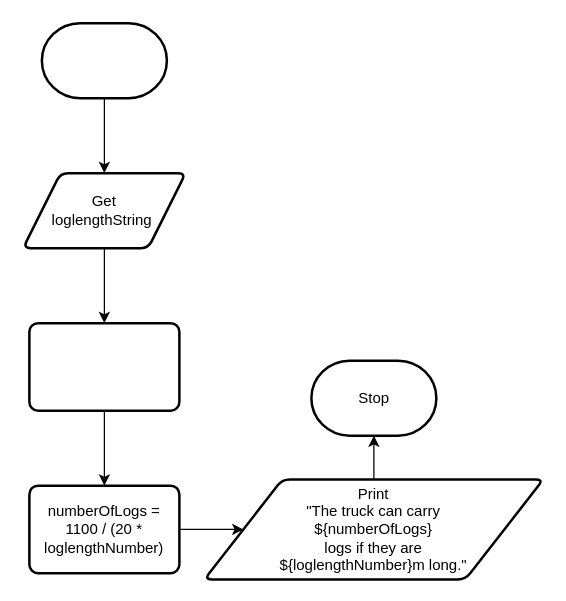
Some shapes in this 566 by 601 pixel diagram are drawn without their labels. The centre of each missing label's shape, as x and y in pixels:
"loglengthNumber = parseFloat( loglengthString.value)" belongs at [104,366].
"Start" belongs at [104,60].
